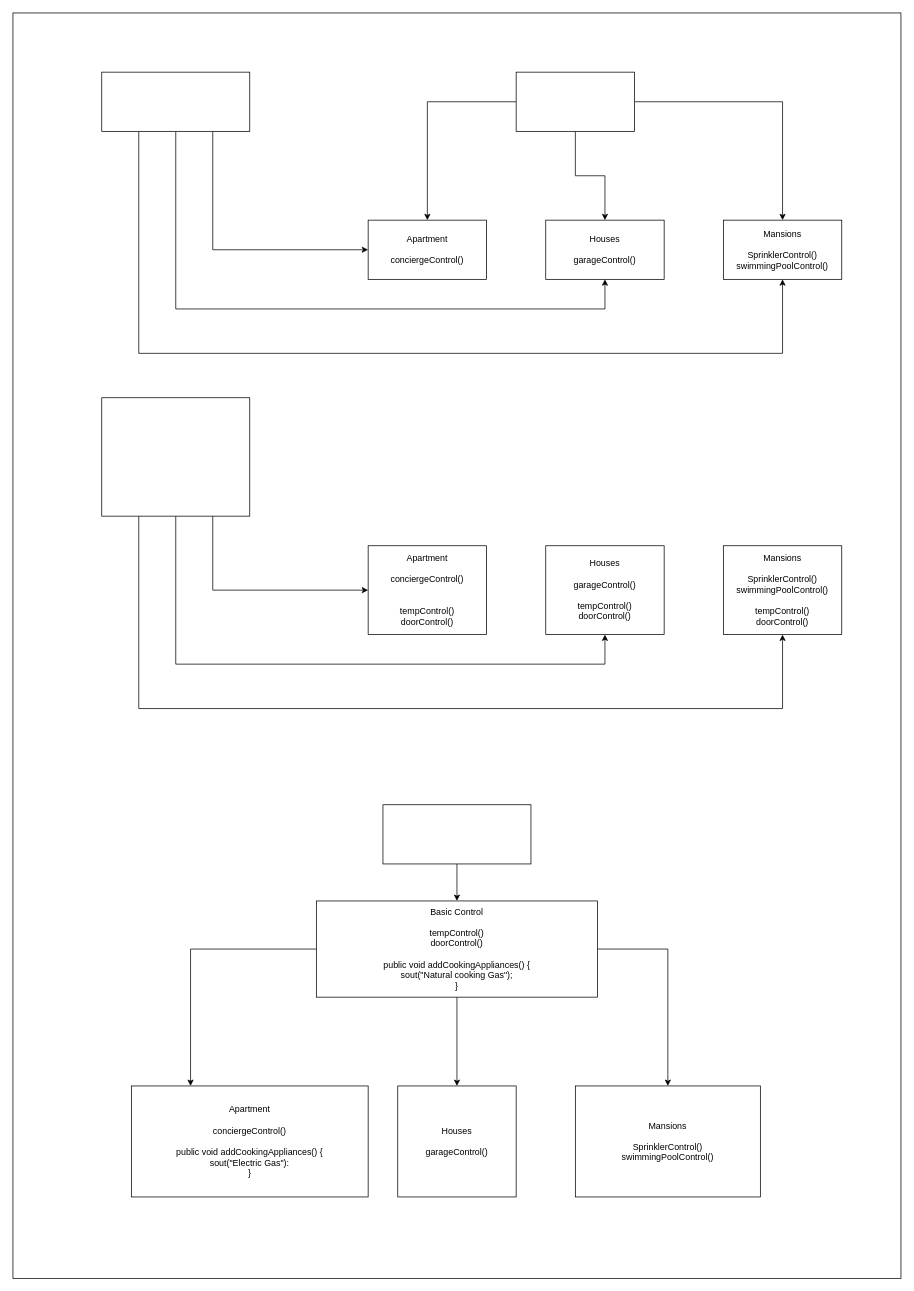
Some shapes in this 914 by 1291 pixel diagram are drawn without their labels. The centre of each missing label's shape, as x and y in pixels:
"AbstractClass - HousingDept addCookingAppliances();" goes at [456,834].
"AbstractClass - HousingDept addElectricity(); addHeating();" goes at [175,456].
"Basic Control tempControl() doorControl()" goes at [575,101].
"Interface - HousingDept" goes at [175,101].
